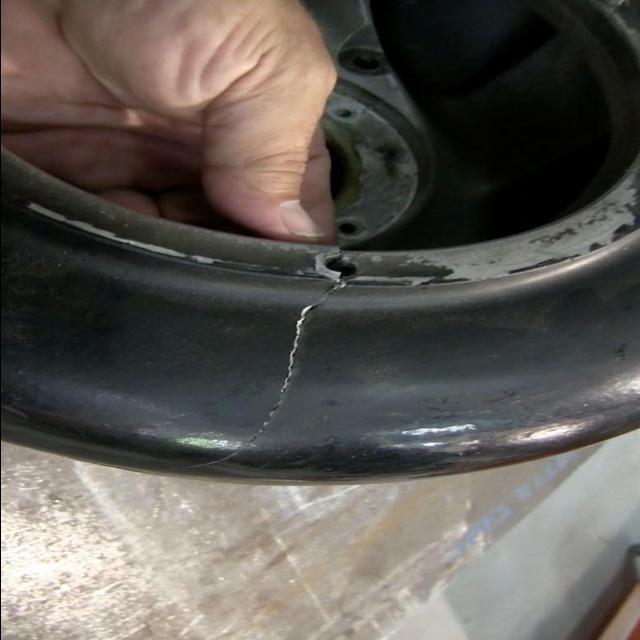defect: (163, 279, 347, 471)
